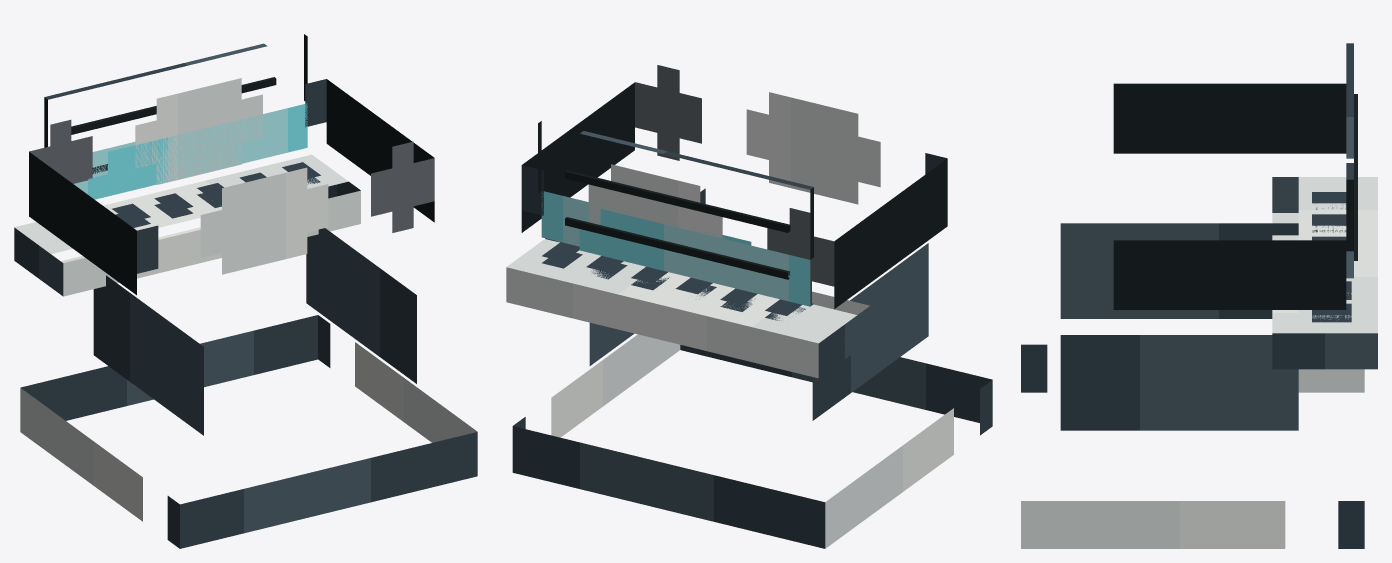
Rendered from lab_research_terminal_powered.obj.
3 views of the same model, side by side, from view 1: azimuth 30°, elevation 25°; view 2: azimuth 150°, elevation 25°; view 3: azimuth 270°, elevation 25° (orthographic). The views are drawn at different scales.
Size of the model in its own units: 0.875 by 0.9875 by 0.8438.
